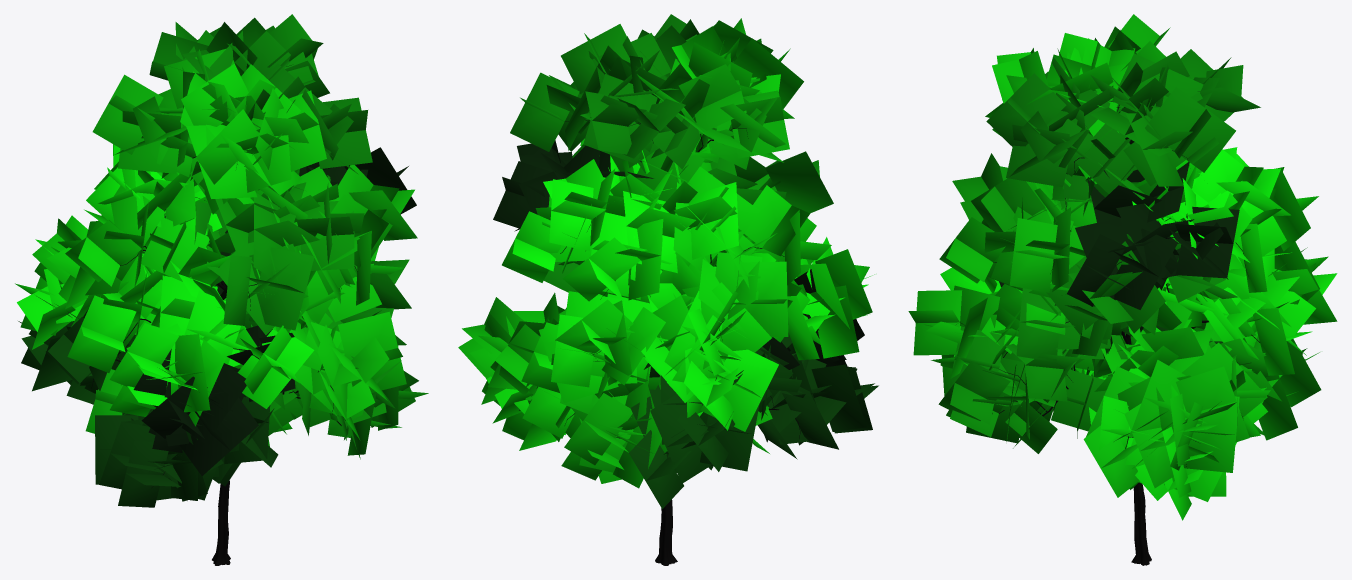
The model's file is Euro_Beech_5.fbx.
3 renders of one model, left to right at view 1: azimuth 30°, elevation 25°; view 2: azimuth 150°, elevation 25°; view 3: azimuth 270°, elevation 25°, orthographic.
Visible parts, largest first — view 1: Euro_Beech_5; view 2: Euro_Beech_5; view 3: Euro_Beech_5.
Part boxes in pixels (<box>): Euro_Beech_5: <box>15,14,428,565</box>; Euro_Beech_5: <box>458,14,878,565</box>; Euro_Beech_5: <box>908,14,1337,565</box>.
Size of the model in its own units: 505 by 738 by 551.
